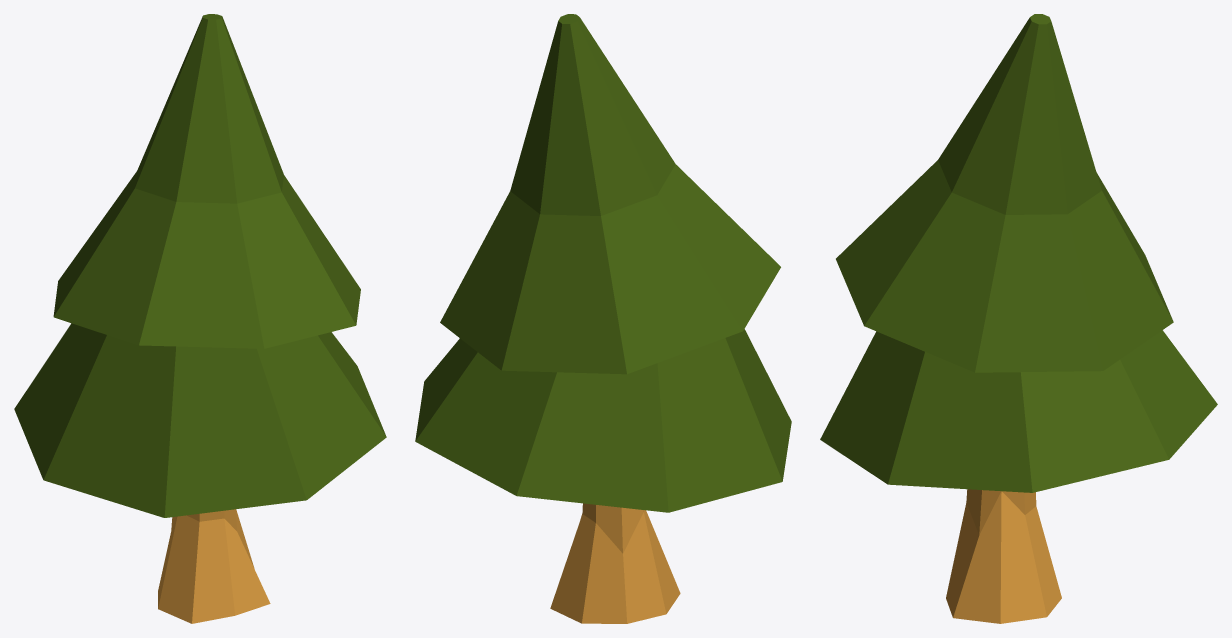
File: object_landscape_tree_deciduous_young.glb
The picture shows the model from 3 angles, left to right: view 1: azimuth 30°, elevation 25°; view 2: azimuth 150°, elevation 25°; view 3: azimuth 270°, elevation 25°; orthographic projection. The views are drawn at different scales.
Visible parts, largest first — view 1: object_landscape_tree_deciduous_young; view 2: object_landscape_tree_deciduous_young; view 3: object_landscape_tree_deciduous_young.
Part boxes in pixels (<box>): object_landscape_tree_deciduous_young: <box>14,14,386,623</box>; object_landscape_tree_deciduous_young: <box>415,14,791,623</box>; object_landscape_tree_deciduous_young: <box>820,14,1217,623</box>.
Size of the model in its own units: 0.2506 by 0.4114 by 0.2507.
